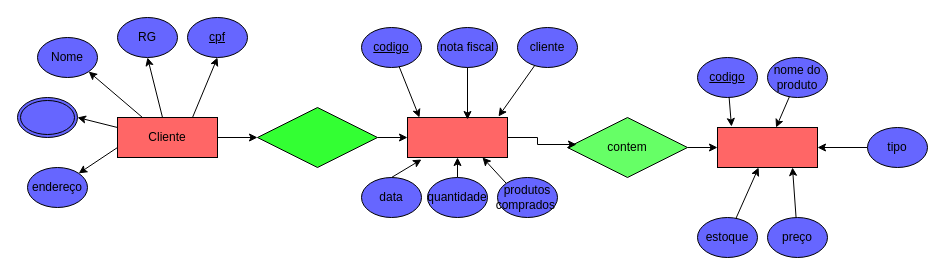
Some shapes in this 945 by 275 pixel diagram are drawn without their labels. The box of each missing label's shape, as (x1, y1, x2, y2) in pixels:
Compra: (406, 116, 508, 158)
Produto: (716, 126, 818, 168)
Realiza: (256, 106, 378, 168)
telefone: (16, 96, 78, 138)
